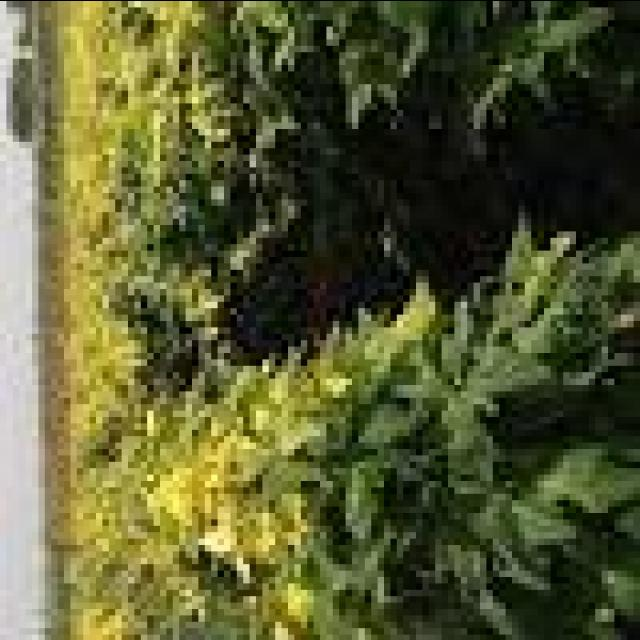virus_kuning: (138, 428, 300, 582)
